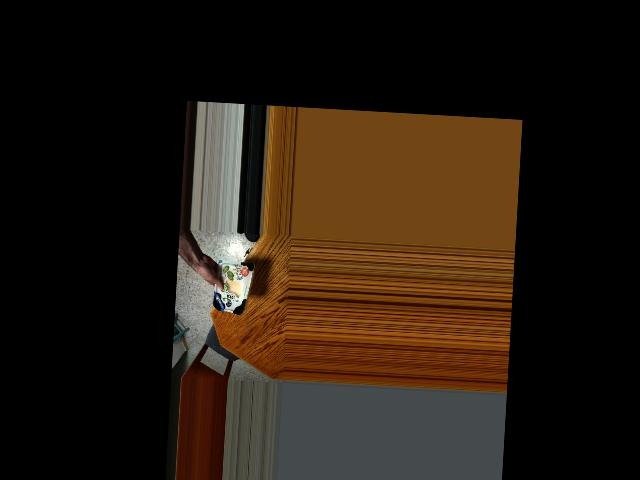cheese: (206, 258, 253, 314)
